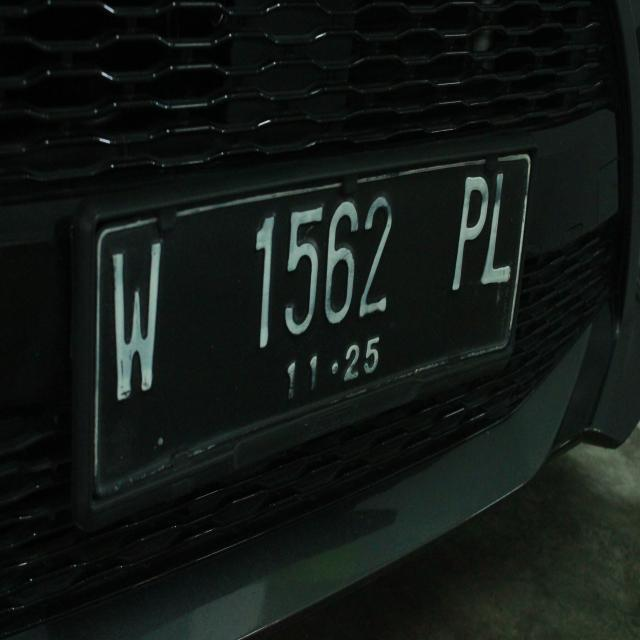1: (240, 206, 284, 360)
2: (358, 186, 396, 328)
5: (283, 200, 323, 348)
6: (322, 188, 362, 328)
L: (483, 158, 518, 299)
P: (441, 160, 491, 296)
W: (98, 233, 170, 408)
